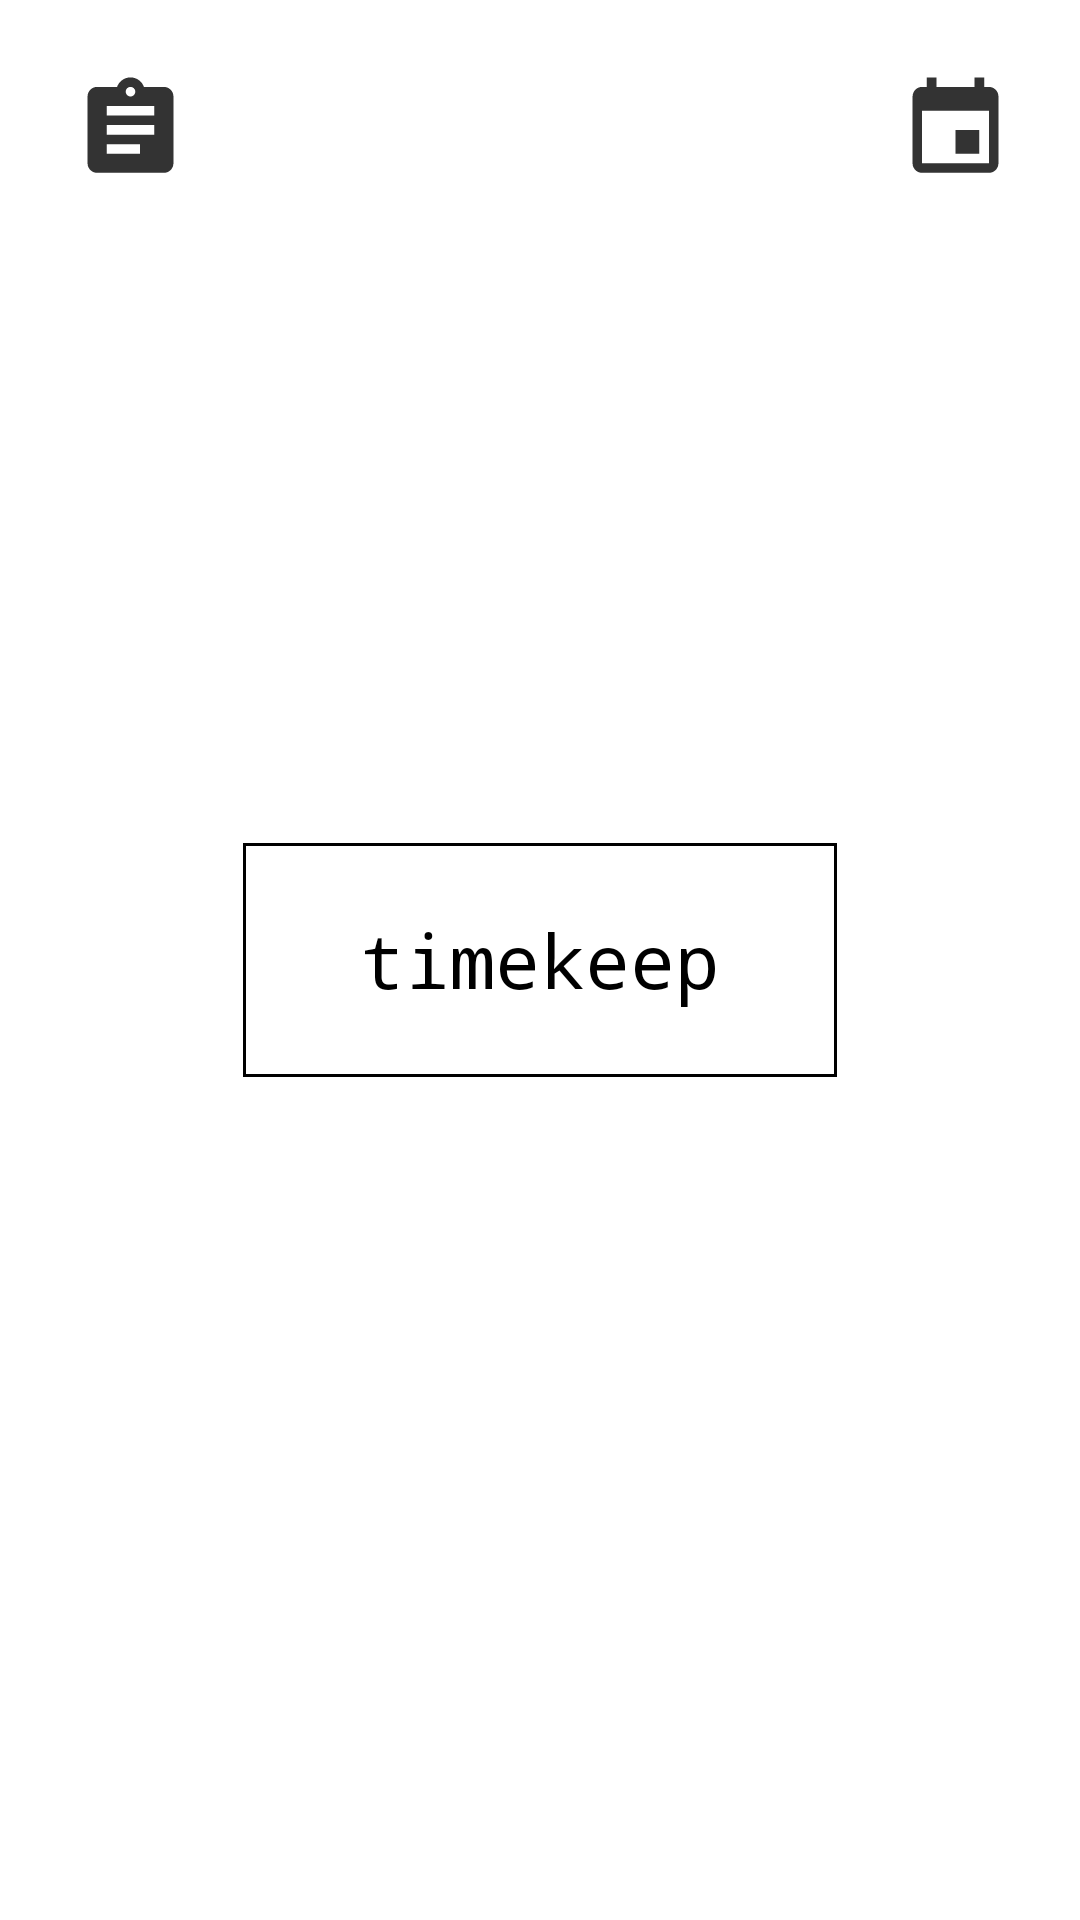

Point at icon controls on the screen. Image size 1080×1920, points as (x=x, y=y).
calendar: (x=955, y=125)
task: (x=130, y=125)
